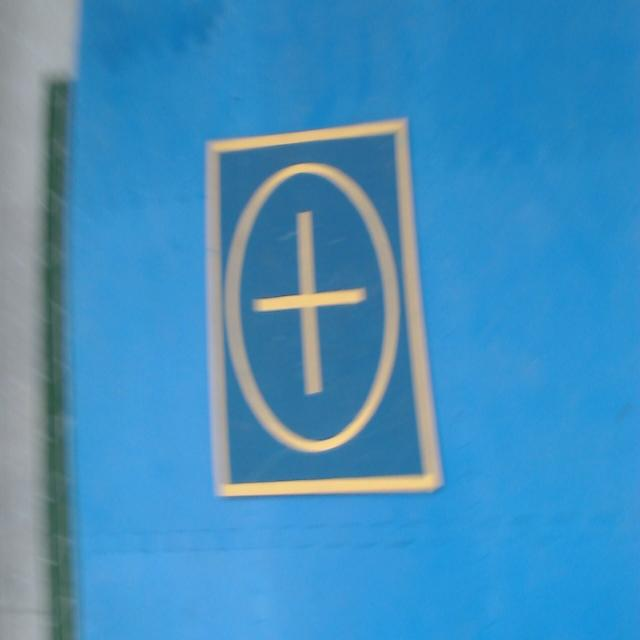base_pouso: (205, 116, 445, 498)
